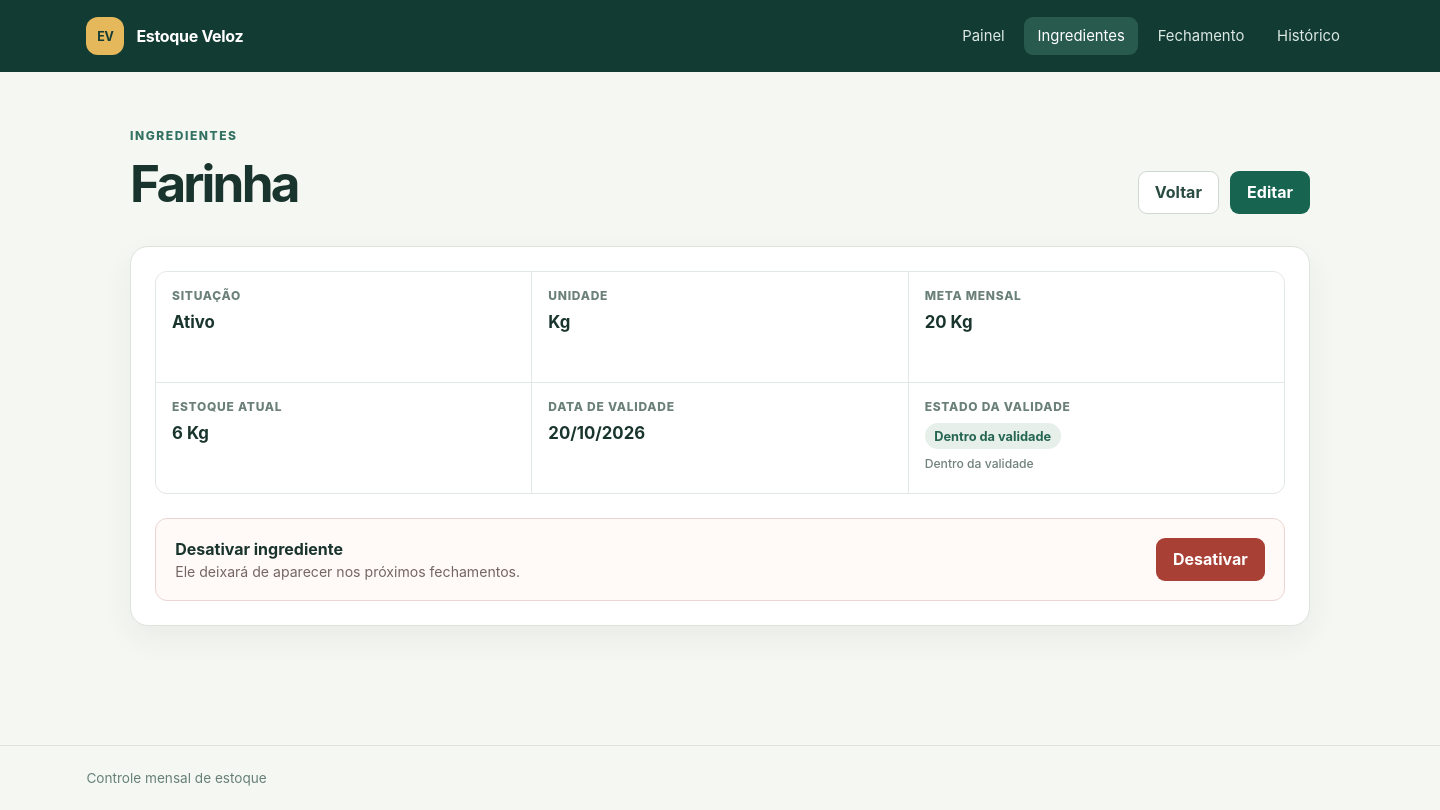
Scenario: Telas de ingredientes › desativa e permite reativar um ingrediente
Click the button "Desativar" at x=1210, y=559, box [1156,538,1265,581]
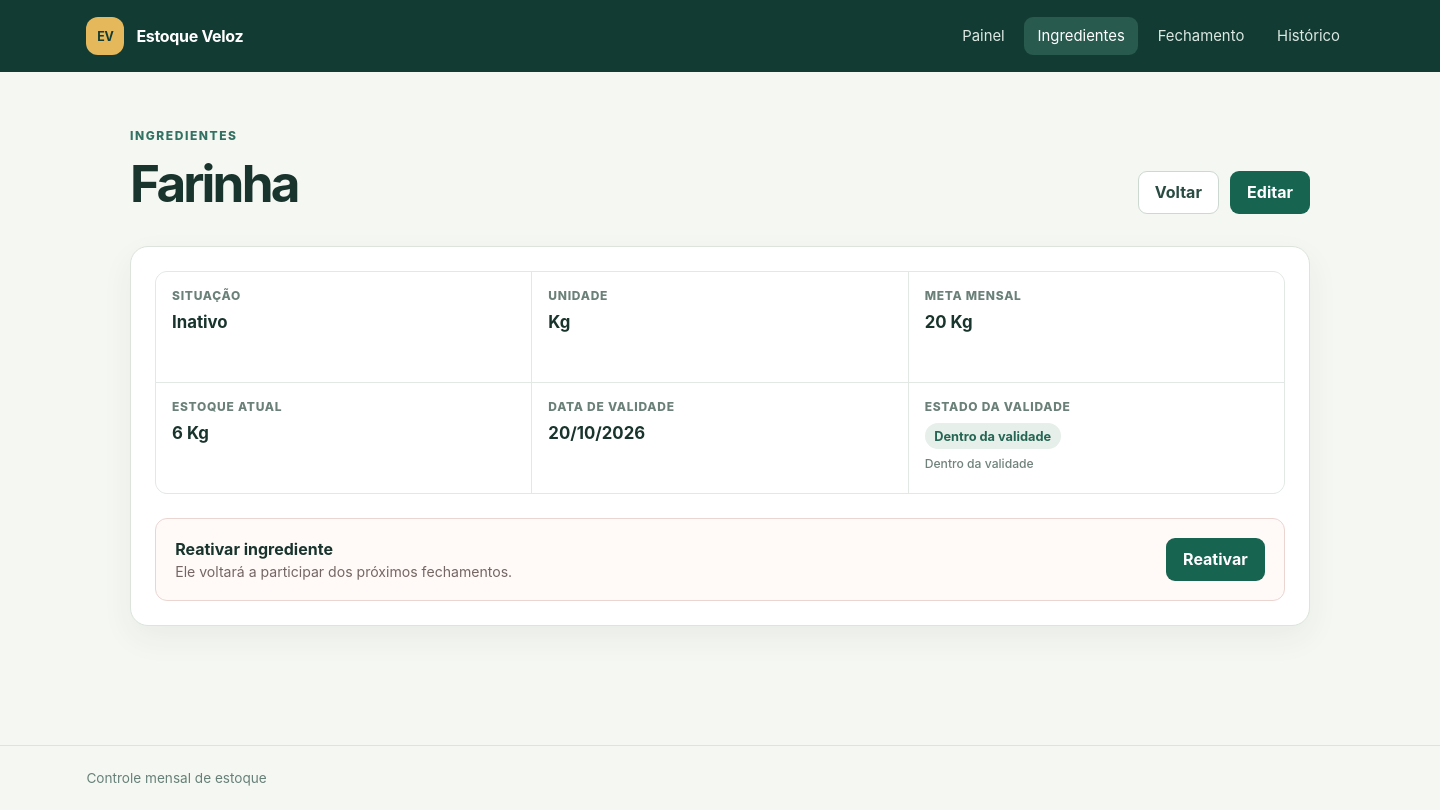
Check: the button "Reativar" is shown, box [1166,538,1265,581]
